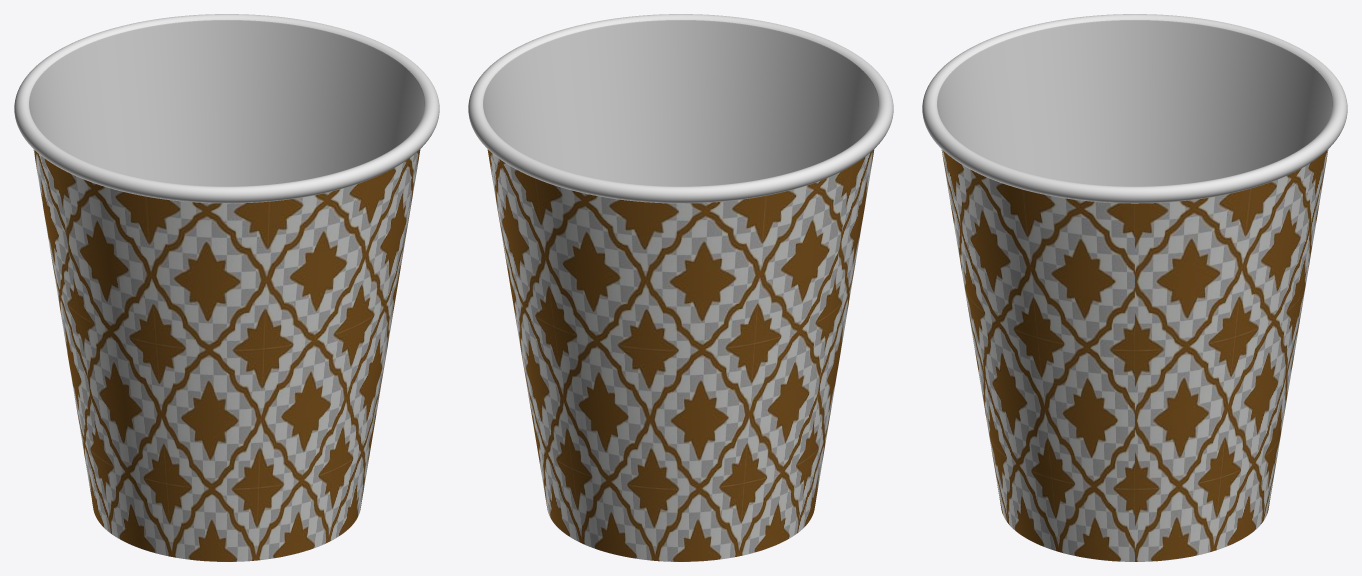
The picture shows the model from 3 angles, left to right: view 1: azimuth 30°, elevation 25°; view 2: azimuth 150°, elevation 25°; view 3: azimuth 270°, elevation 25°; orthographic projection.
Visible parts, largest first — view 1: Part 1, Part 2; view 2: Part 1, Part 2; view 3: Part 1, Part 2.
Boxes of the visible parts, bbox=[...] form: Part 1: bbox=[33, 149, 420, 561]; Part 2: bbox=[14, 14, 439, 203]; Part 1: bbox=[487, 149, 874, 561]; Part 2: bbox=[468, 14, 893, 203]; Part 1: bbox=[941, 149, 1328, 561]; Part 2: bbox=[922, 14, 1347, 203].
Size of the model in its own units: 0.0885 by 0.0928 by 0.0885.
Materials: 2 (1 with a texture image).
